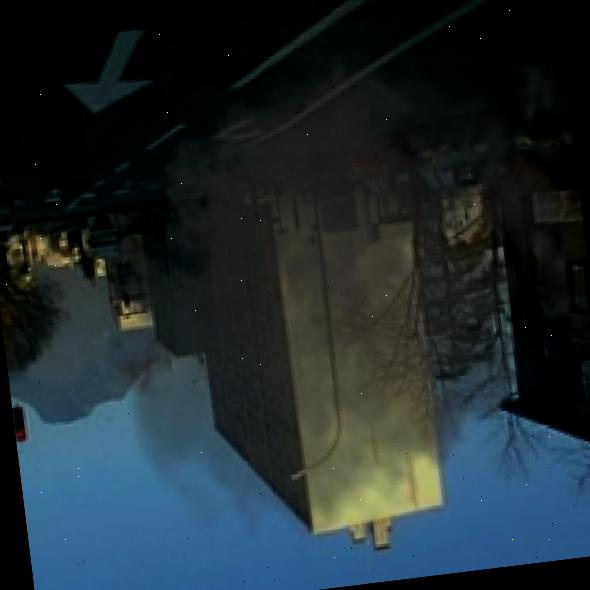smoke: (147, 99, 493, 441)
